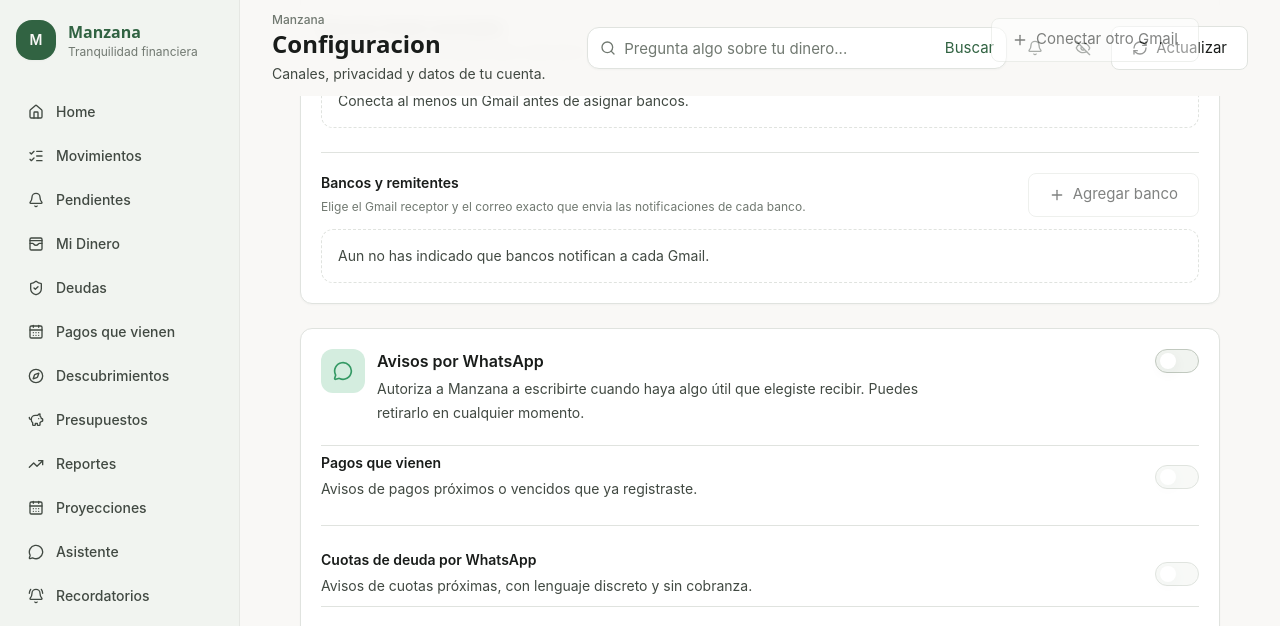
Test case: settings reminders › pide consentimiento explícito antes de activar avisos externos
(page scrolled)
Click the switch named "Activar avisos por WhatsApp" at point(1177, 360), box [1155,348,1199,372]
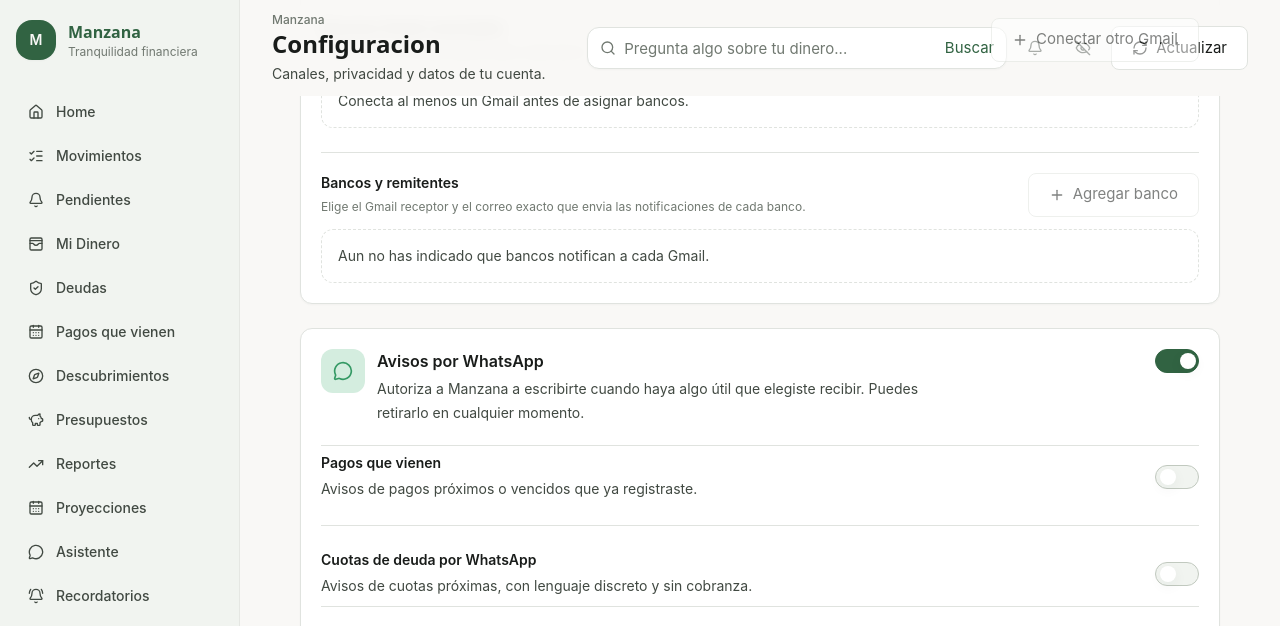
Click the switch named "Activar Pagos que vienen" at point(1177, 477), box [1155,465,1199,489]
(page scrolled)
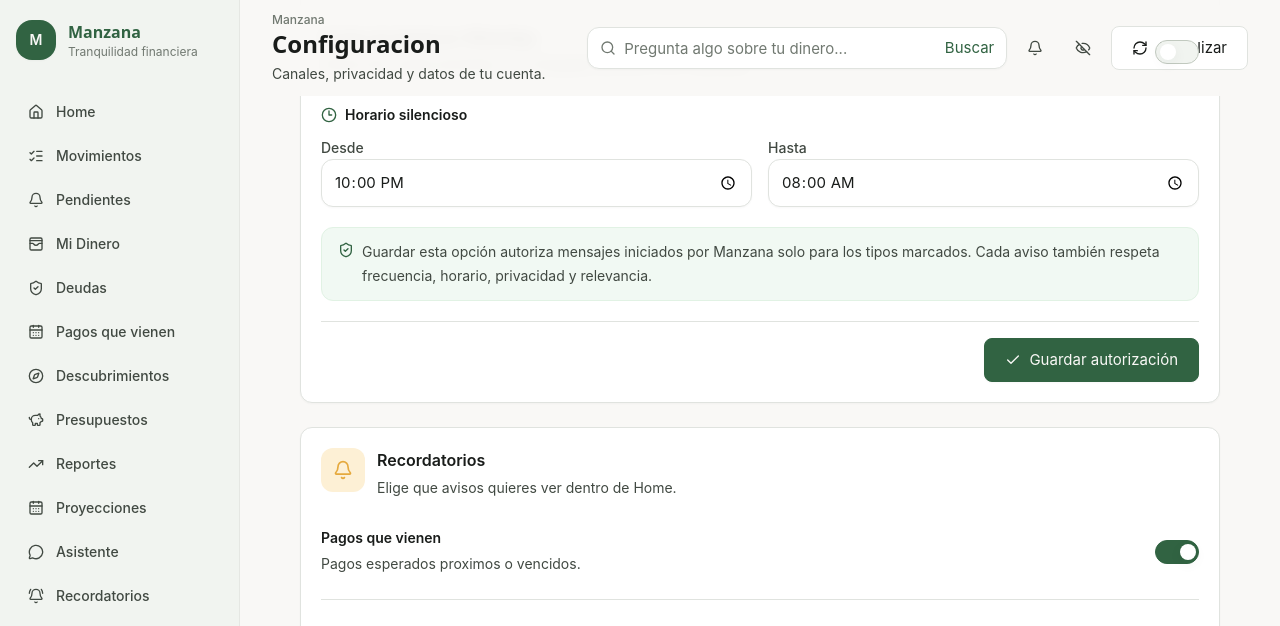
Click the button "Guardar autorización" at point(1092, 360), box [984,338,1199,382]
(page scrolled)
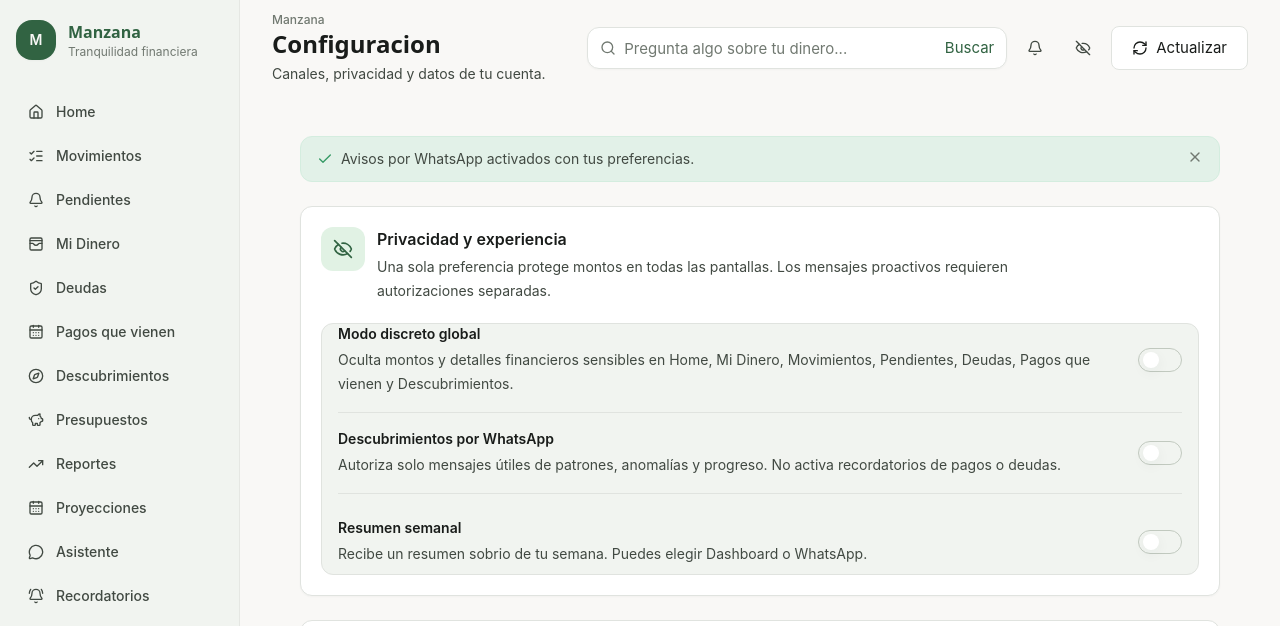
Expected: the text "Avisos por WhatsApp activados con tus preferencias." is shown, [341,149,694,169]
